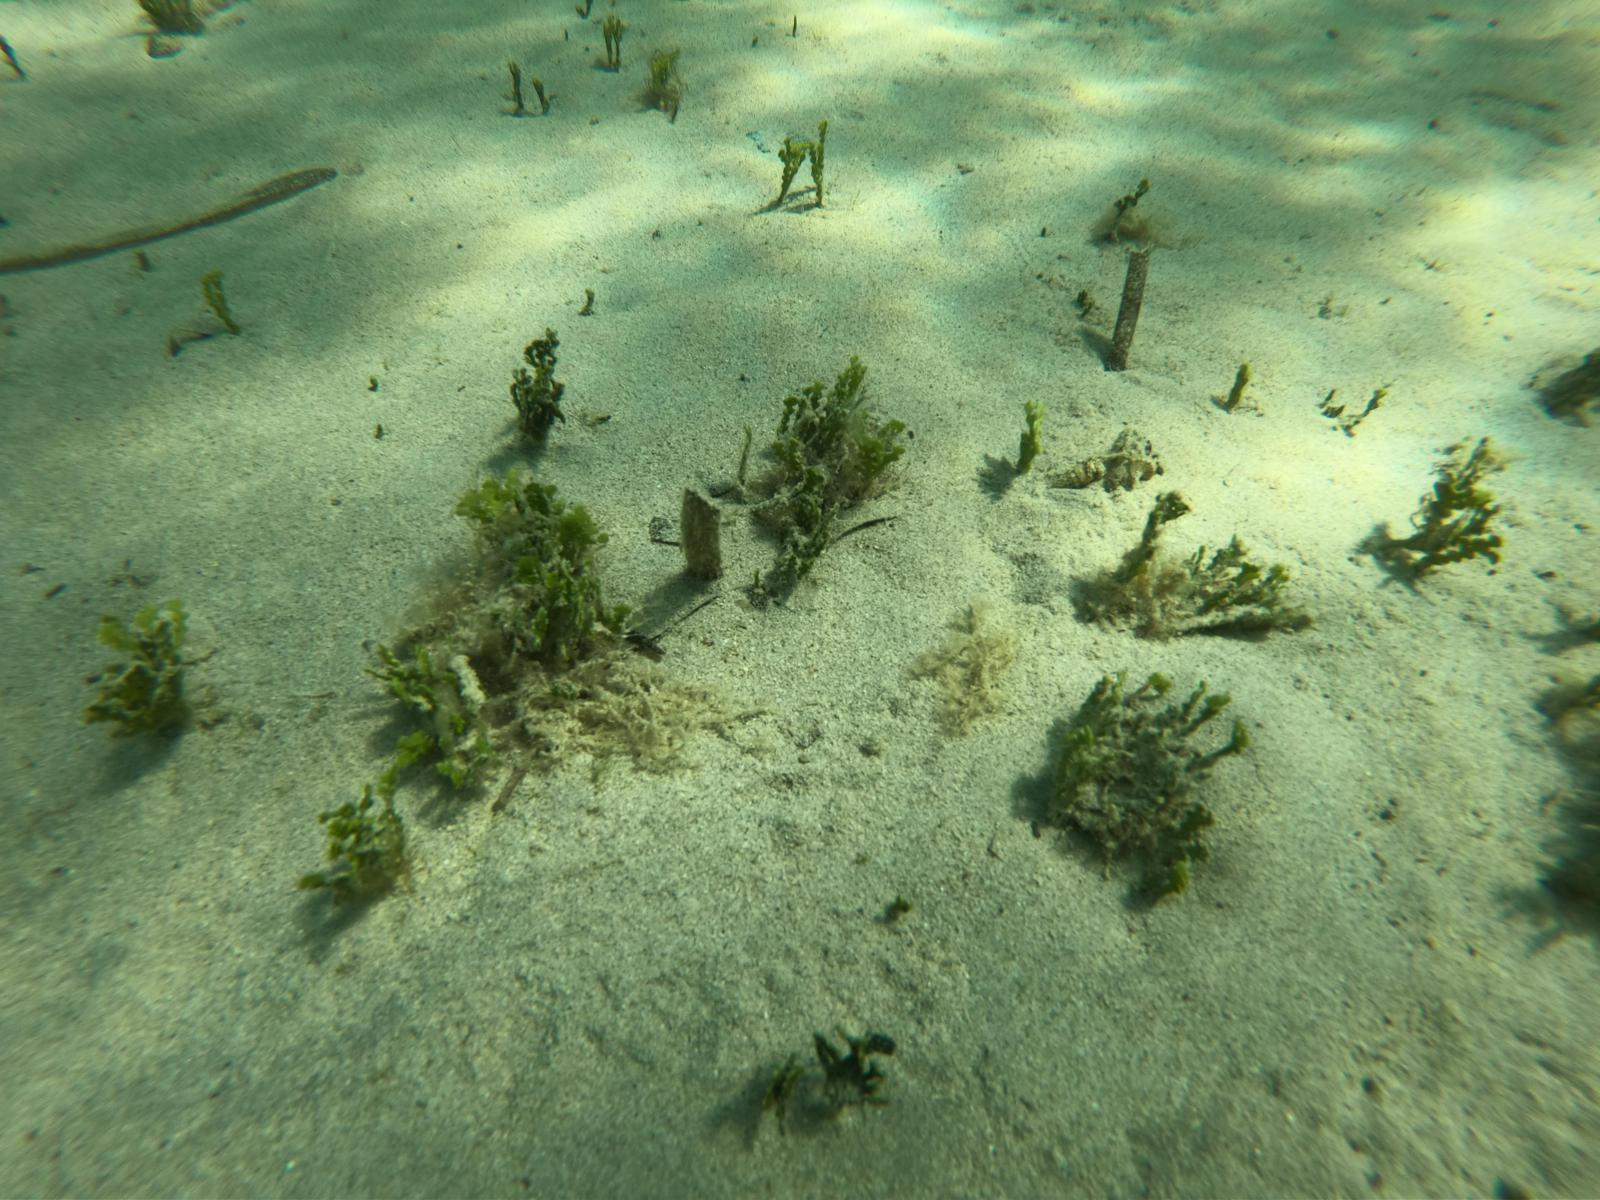halimeda: (1049, 666, 1245, 895), (373, 648, 500, 774), (781, 363, 894, 497), (84, 595, 194, 732), (506, 565, 630, 659), (306, 794, 417, 899), (462, 478, 585, 567), (1410, 463, 1500, 581), (1193, 533, 1289, 625), (506, 330, 572, 441), (811, 1018, 894, 1100), (1112, 492, 1186, 582), (763, 497, 837, 580), (771, 124, 826, 212), (1013, 398, 1047, 476), (202, 274, 241, 333), (1225, 361, 1252, 411), (601, 16, 626, 69), (508, 64, 524, 111), (529, 76, 549, 110)
